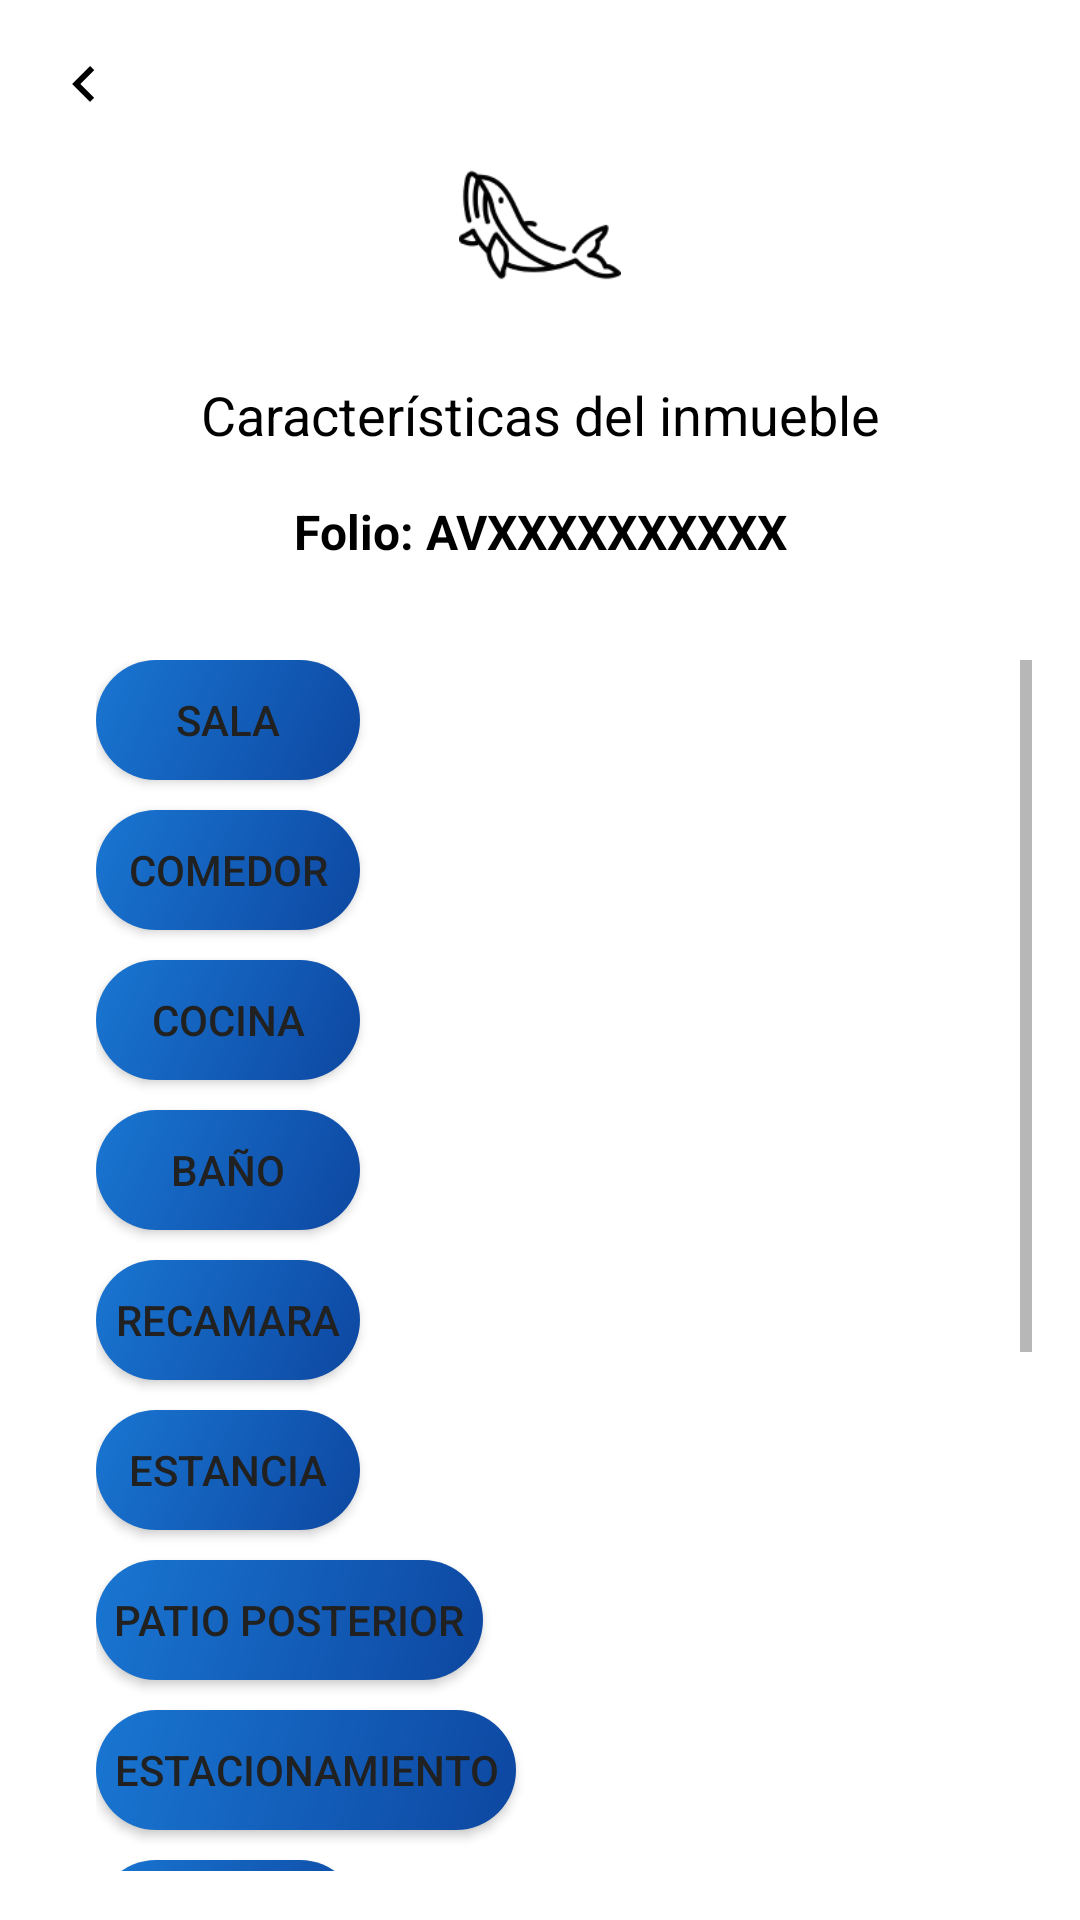

Icon bounding boxes for this 1080 × 1920 phone screenshot, format (x1,y1,x2,y2):
Regresar: (72,66,94,102)
whale: (459,171,621,279)
